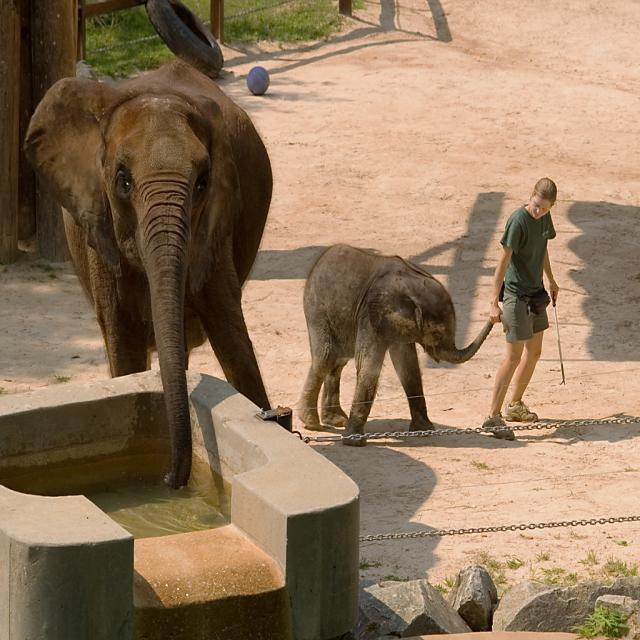elephant: (21, 55, 272, 491), (291, 240, 505, 445)
